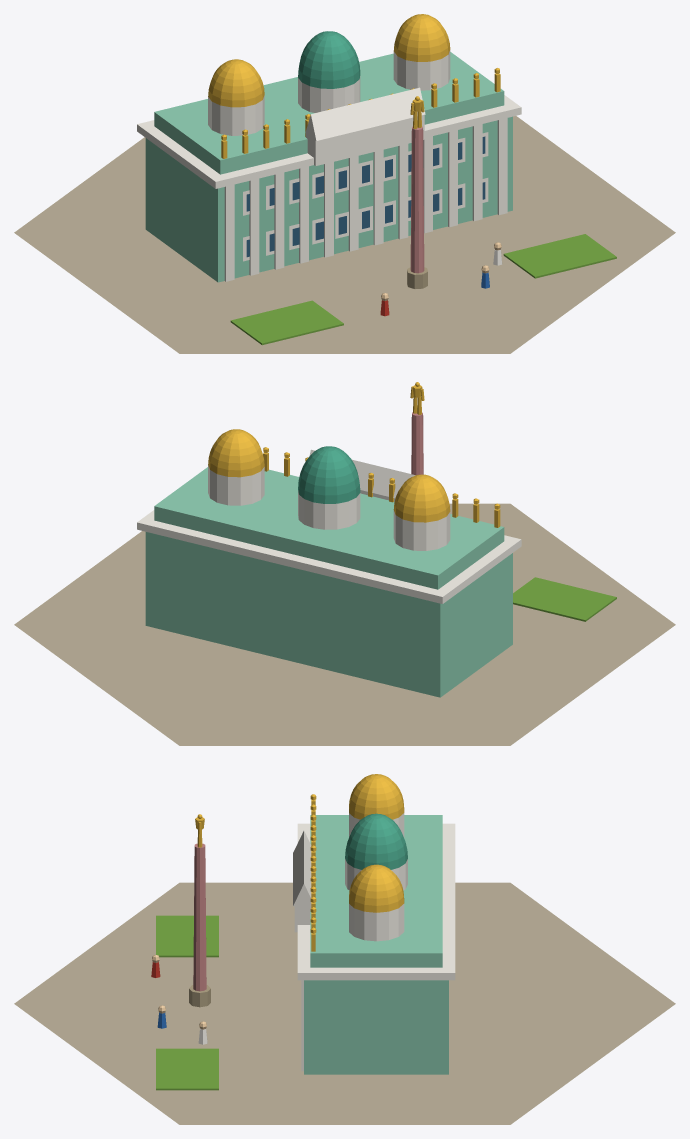
File: wonder_hermitage.fbx
The picture shows the model from 3 angles, top to bottom: view 1: azimuth 30°, elevation 25°; view 2: azimuth 150°, elevation 25°; view 3: azimuth 270°, elevation 25°; orthographic projection.
Parts seen in each view (by area): view 1: wonder_hermitage; view 2: wonder_hermitage; view 3: wonder_hermitage.
Boxes of the visible parts, <box> form: wonder_hermitage: <box>14,14,675,353</box>; wonder_hermitage: <box>14,382,675,745</box>; wonder_hermitage: <box>14,774,675,1124</box>.
Bounding box in the file's own units: 182 × 66.32 × 210.
